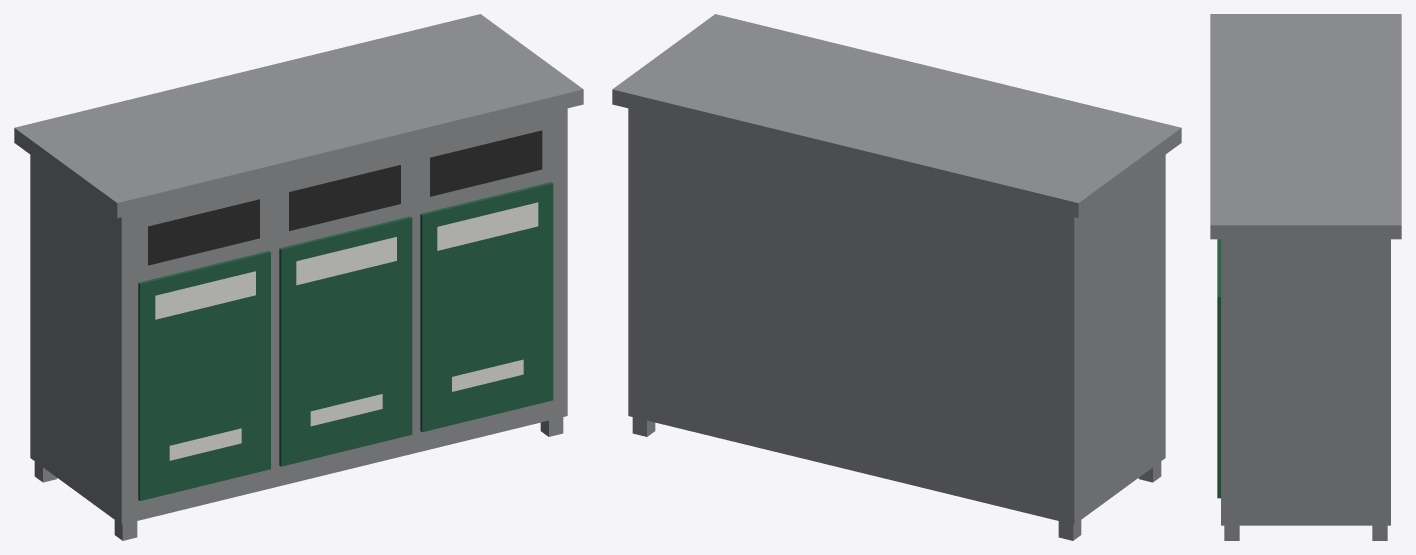
Rendered from recycle_bin.glb.
The picture shows the model from 3 angles, left to right: view 1: azimuth 30°, elevation 25°; view 2: azimuth 150°, elevation 25°; view 3: azimuth 270°, elevation 25°; orthographic projection. The views are drawn at different scales.
Parts seen in each view (by area): view 1: recycle_bin; view 2: recycle_bin; view 3: recycle_bin.
Part boxes in pixels (x1,y1,x2,y2): recycle_bin: (14, 14, 583, 540); recycle_bin: (612, 14, 1181, 540); recycle_bin: (1210, 14, 1401, 540).
Bounding box in the file's own units: 1.62 × 1.15 × 0.62.
